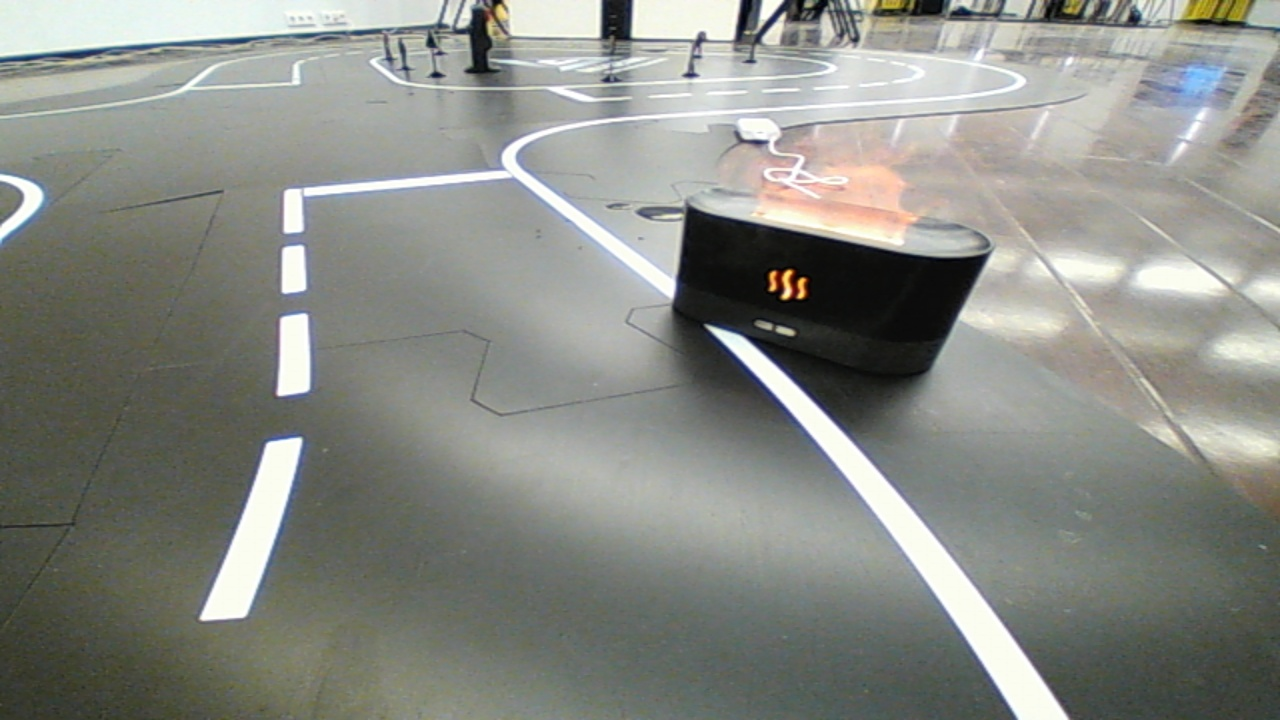Movement prohibition: (655, 167, 1016, 393)
